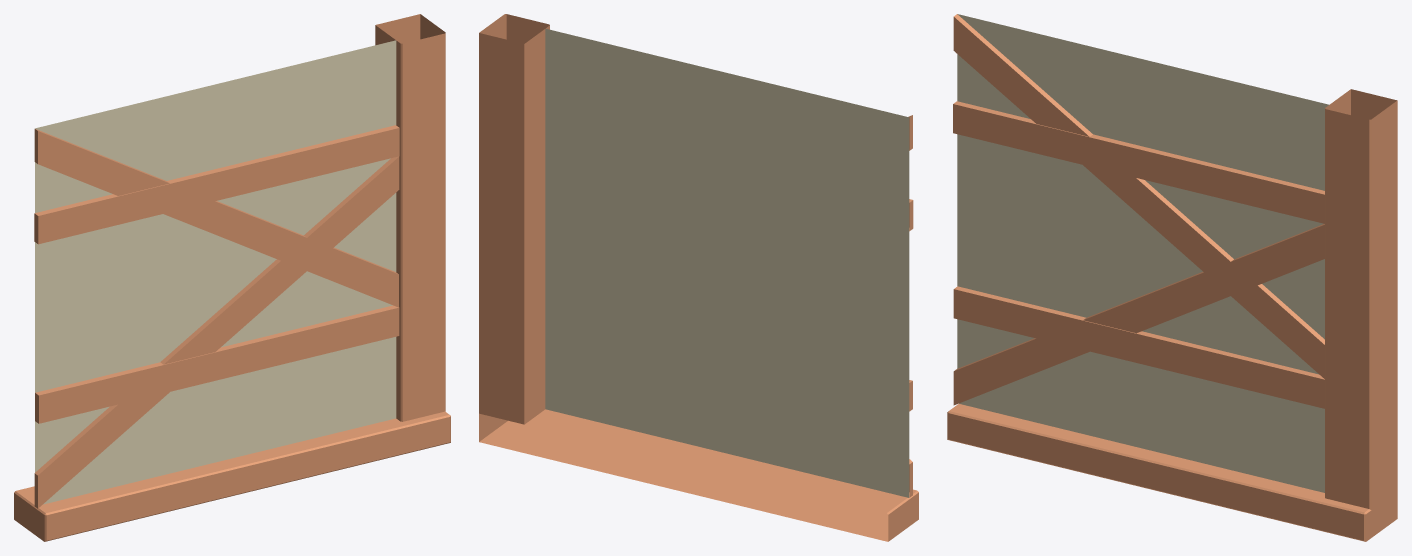
The model's file is Wall6.fbx.
The picture shows the model from 3 angles, left to right: view 1: azimuth 30°, elevation 25°; view 2: azimuth 150°, elevation 25°; view 3: azimuth 330°, elevation 25°; orthographic projection. The views are drawn at different scales.
Visible parts, largest first — view 1: Wall6_low, Wall6_plank2_low, Wall6_plank1_low; view 2: Wall6_low, Wall6_plank1_low, Wall6_plank2_low; view 3: Wall6_low, Wall6_plank2_low, Wall6_plank1_low.
Boxes of the visible parts, left/top/right/bottom form: Wall6_low: left=35, top=40, right=396, bottom=504; Wall6_plank2_low: left=34, top=125, right=399, bottom=508; Wall6_plank1_low: left=14, top=14, right=450, bottom=541; Wall6_low: left=545, top=28, right=909, bottom=497; Wall6_plank1_low: left=479, top=14, right=918, bottom=541; Wall6_plank2_low: left=908, top=115, right=913, bottom=497; Wall6_low: left=957, top=14, right=1328, bottom=492; Wall6_plank2_low: left=953, top=14, right=1324, bottom=408; Wall6_plank1_low: left=947, top=89, right=1397, bottom=541.
Bounding box in the file's own units: 450 × 430 × 60.
